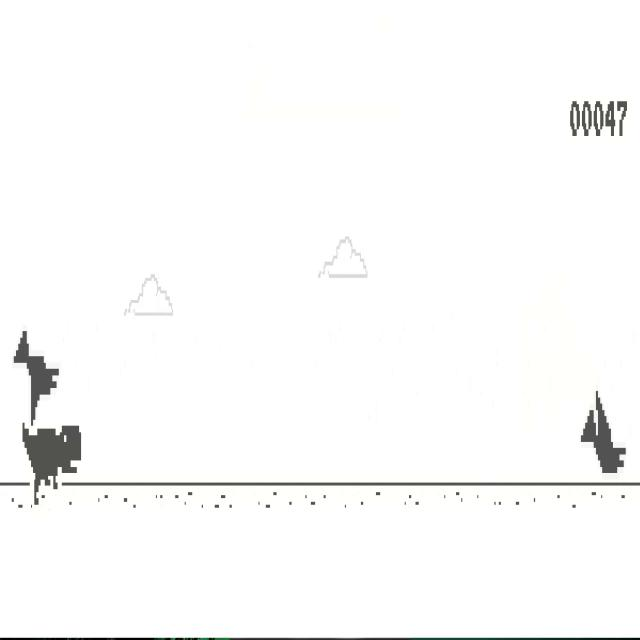dino: (21, 416, 83, 506)
ptero: (12, 326, 60, 426), (580, 387, 628, 477)
